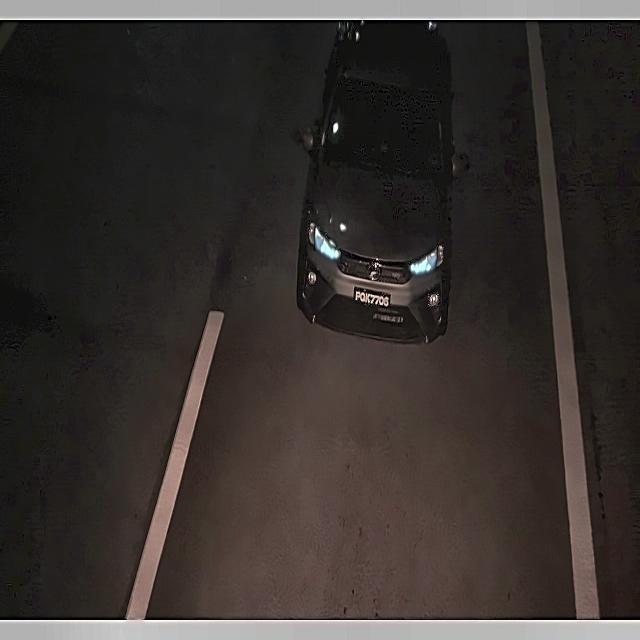car: (353, 274, 394, 319)
